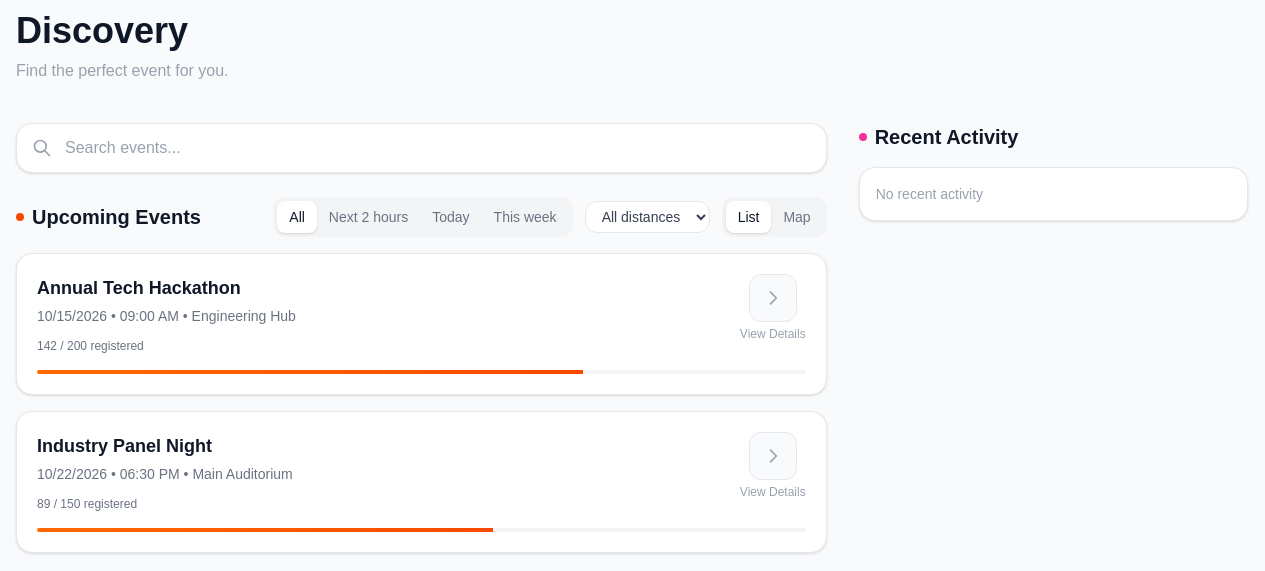
Test: FR-03: Time Filter › test_FR03_time_filter: time filter updates event list
Check: the heading "Annual Tech Hackathon" is shown, box x1=37 y1=278 x2=241 y2=298
Check: the heading "Industry Panel Night" is shown, box x1=37 y1=436 x2=212 y2=456
Click the button with test id "time-filter-2hr": point(369, 217) x1=317 y1=201 x2=420 y2=233
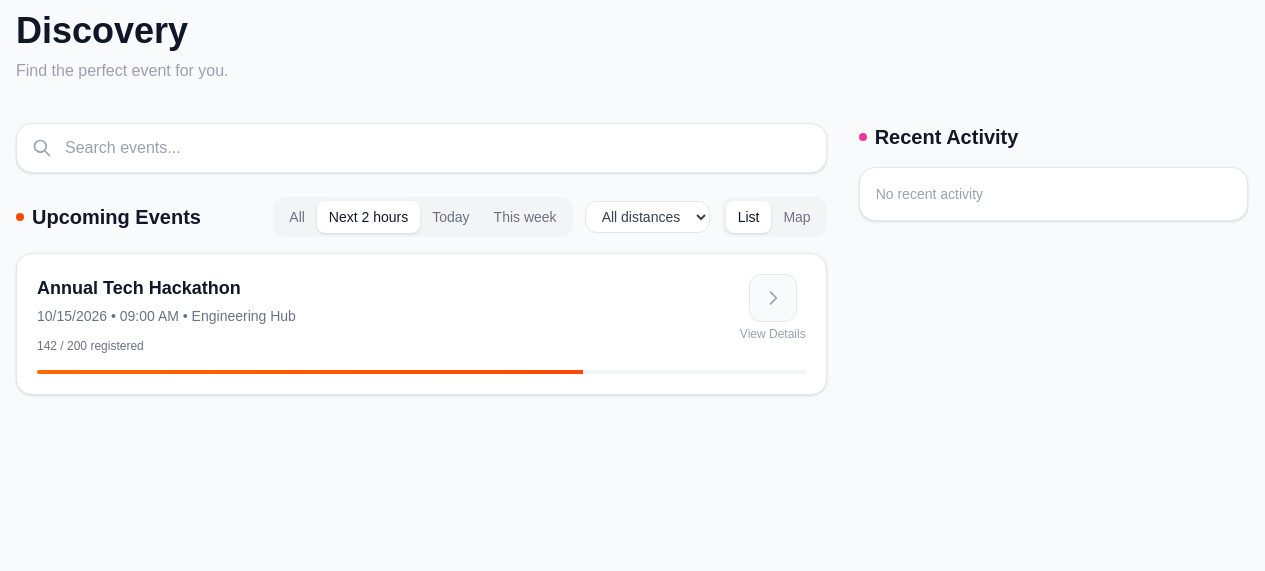
Check: the heading "Annual Tech Hackathon" is shown, box x1=37 y1=278 x2=241 y2=298
Check: the link "Industry Panel Night" is gone
